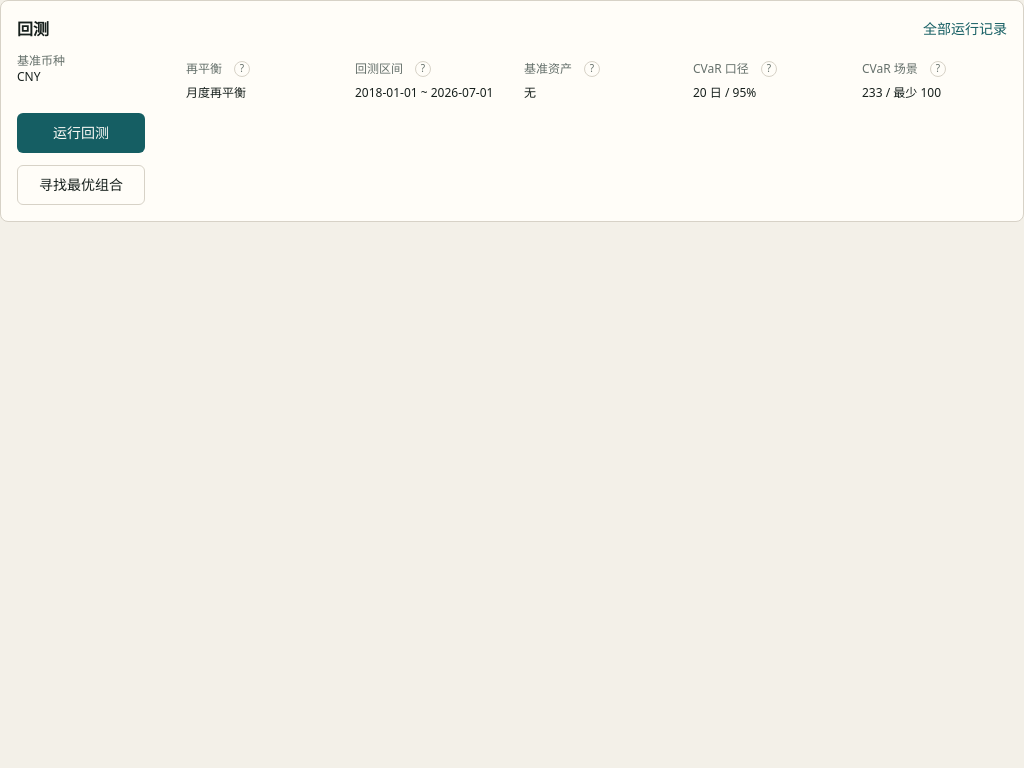
Test case: BacktestPanel › opens the optimization dialog when candidate count exceeds the recommendation
Click the button with test id "find-optimal" at point(81, 185), box [17,165,145,205]
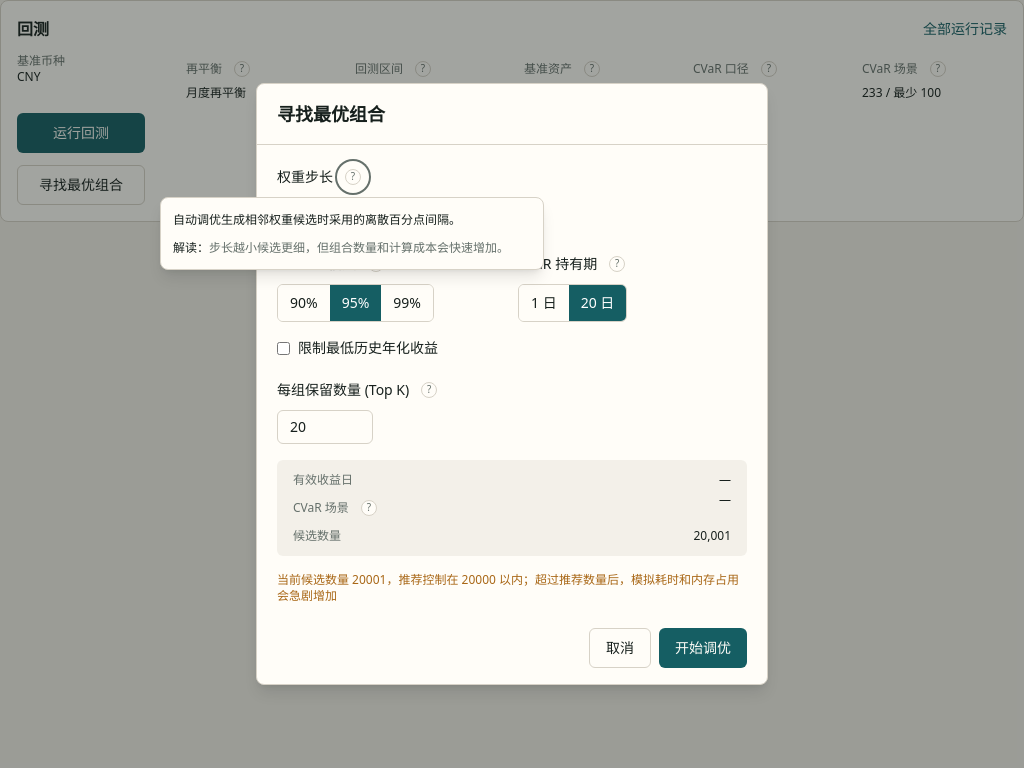
Check: the dialog "寻找最优组合" is shown, box [256,83,768,685]
Check: the text "当前候选数量 20001，推荐控制在 20000 以内；超过推荐数量后，模拟耗时和内存占用会急剧增加" is shown, box [277,572,747,604]
